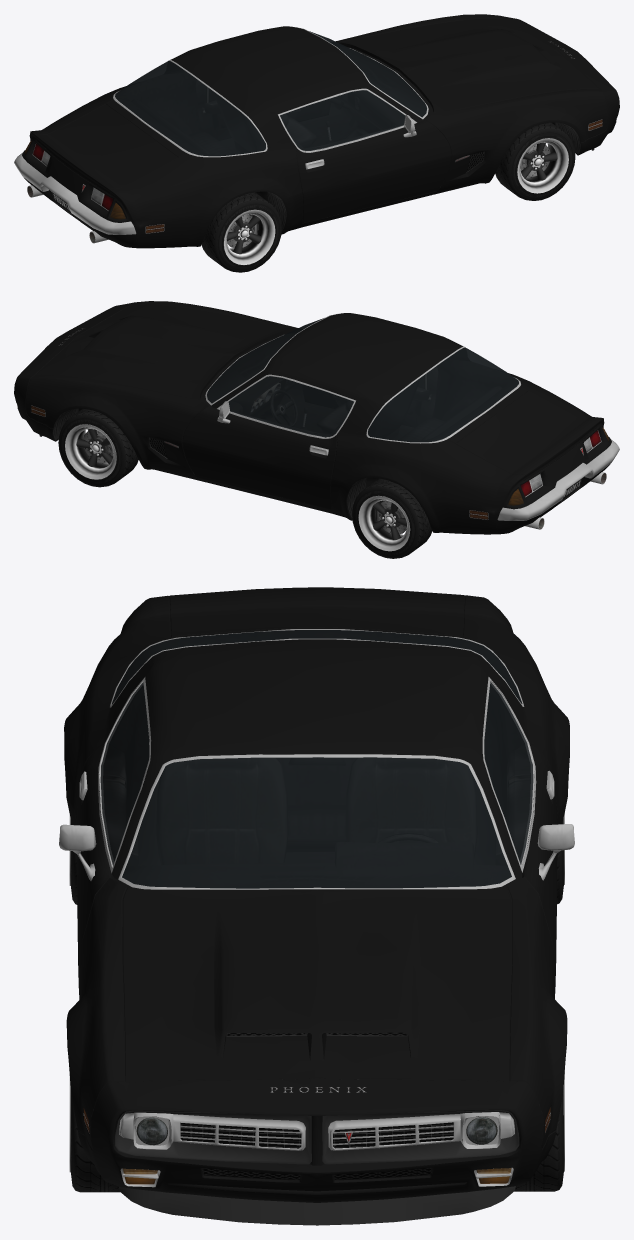
Rendered from phoenix.glb.
3 renders of one model, top to bottom at view 1: azimuth 30°, elevation 25°; view 2: azimuth 150°, elevation 25°; view 3: azimuth 270°, elevation 25°, orthographic. The views are drawn at different scales.
Parts seen in each view (by area): view 1: car_Body_Phoenix445_Bodymat, m_UCB_Lights_and_Glass_Transperent, m_UCB_Interiors_2, m_UCB_BOTTOM, wheel0, wheel2, car_Optics_UCB_Lights_and_Glass; view 2: car_Body_Phoenix445_Bodymat, m_UCB_Lights_and_Glass_Transperent, m_UCB_Interiors_2, m_UCB_BOTTOM, wheel1, wheel3, car_Optics_UCB_Lights_and_Glass; view 3: car_Body_Phoenix445_Bodymat, m_UCB_Lights_and_Glass_Transperent, m_UCB_Interiors_2, m_UCB_BOTTOM, car_Optics_UCB_Lights_and_Glass, wheel2, wheel3.
Boxes of the visible parts, x1=… form: car_Body_Phoenix445_Bodymat: x1=22, y1=14, x2=619, y2=248; m_UCB_Lights_and_Glass_Transperent: x1=24, y1=31, x2=602, y2=233; m_UCB_Interiors_2: x1=115, y1=47, x2=426, y2=196; m_UCB_BOTTOM: x1=14, y1=27, x2=602, y2=243; wheel0: x1=201, y1=192, x2=281, y2=272; wheel2: x1=495, y1=122, x2=575, y2=200; car_Optics_UCB_Lights_and_Glass: x1=25, y1=120, x2=601, y2=232; car_Body_Phoenix445_Bodymat: x1=14, y1=301, x2=611, y2=534; m_UCB_Lights_and_Glass_Transperent: x1=31, y1=318, x2=609, y2=519; m_UCB_Interiors_2: x1=207, y1=334, x2=518, y2=482; m_UCB_BOTTOM: x1=31, y1=313, x2=619, y2=529; wheel1: x1=352, y1=478, x2=432, y2=558; wheel3: x1=58, y1=408, x2=138, y2=487; car_Optics_UCB_Lights_and_Glass: x1=32, y1=406, x2=608, y2=518; car_Body_Phoenix445_Bodymat: x1=64, y1=587, x2=569, y2=1202; m_UCB_Lights_and_Glass_Transperent: x1=83, y1=630, x2=550, y2=1184; m_UCB_Interiors_2: x1=103, y1=630, x2=531, y2=888; m_UCB_BOTTOM: x1=59, y1=629, x2=574, y2=1225; car_Optics_UCB_Lights_and_Glass: x1=84, y1=1110, x2=549, y2=1183; wheel2: x1=69, y1=1076, x2=119, y2=1192; wheel3: x1=514, y1=1070, x2=564, y2=1191.
Size of the model in its own units: 4.89 by 1.33 by 2.09.
8 materials, 7 textured.
